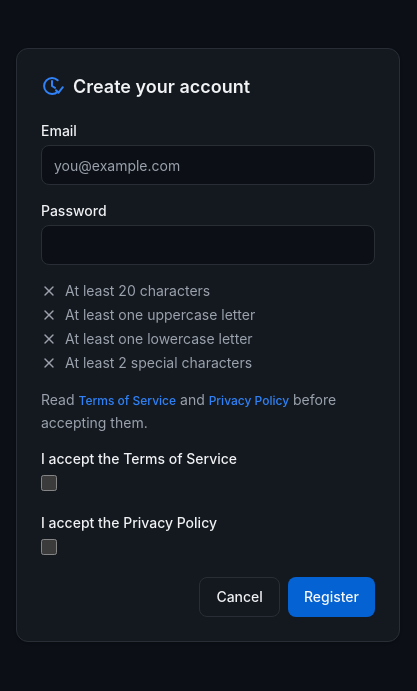
Test: UserCreationPage › shows error when password does not meet policy
Type "new@example.com" into the field named "email".
click(208, 165); type("new@example.com")  # box [41,145,375,185]
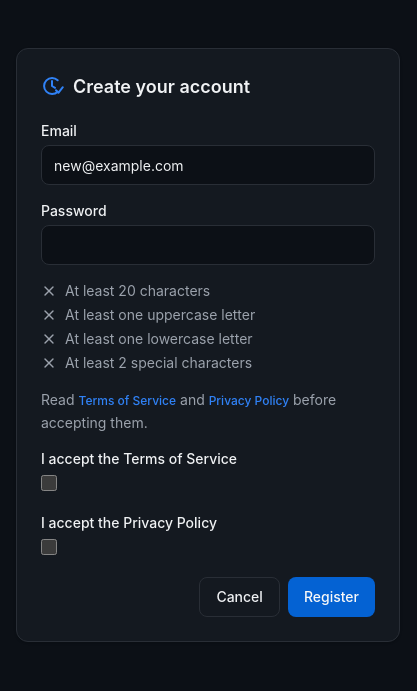
Type "weak" into the password field named "password".
click(208, 245); type("weak")  # box [41,225,375,265]
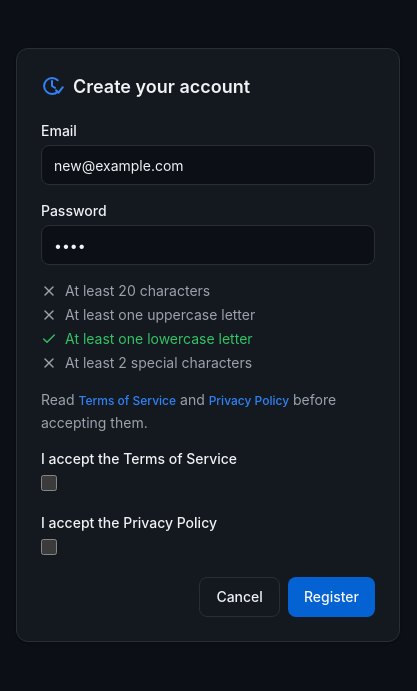
Click the button "Register".
click(331, 597)  # box [288,577,375,617]
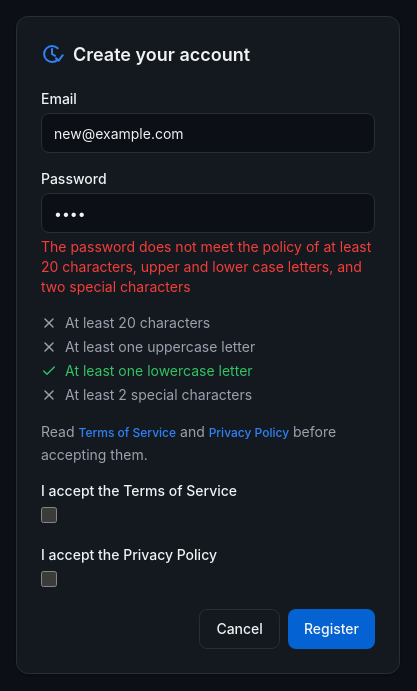
expect the message is shown: met, box [41,237,375,297]
